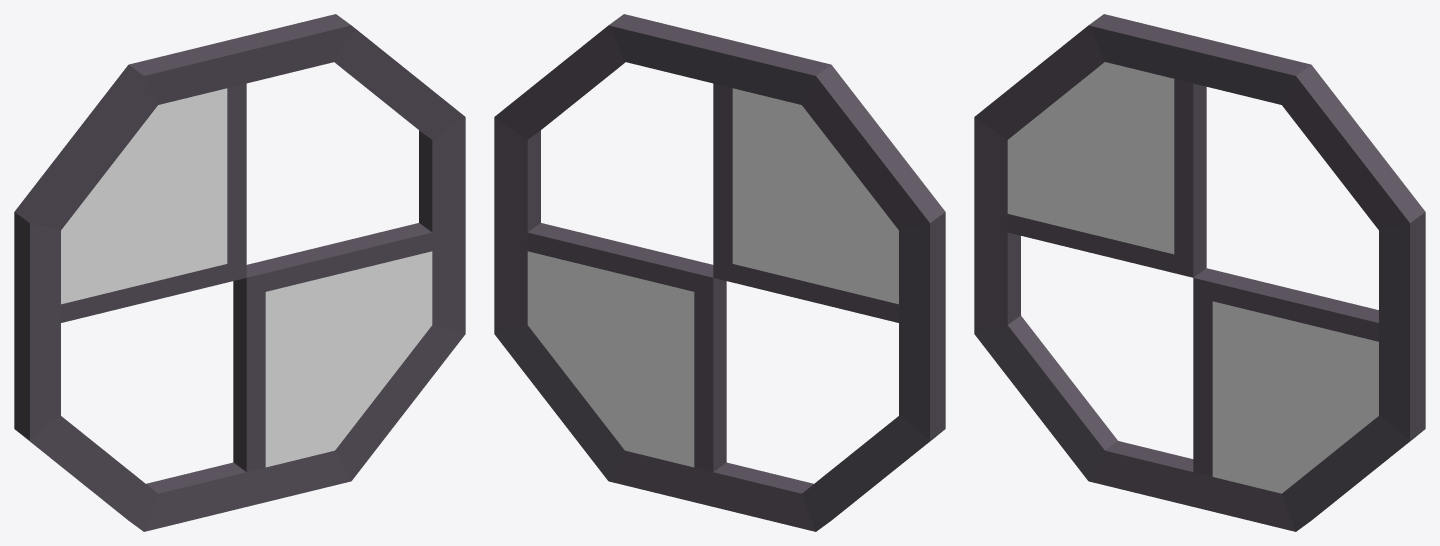
Rendered from Obstacle03.fbx.
3 renders of one model, left to right at view 1: azimuth 30°, elevation 25°; view 2: azimuth 150°, elevation 25°; view 3: azimuth 330°, elevation 25°, orthographic.
Visible parts, largest first — view 1: Obstacle03; view 2: Obstacle03; view 3: Obstacle03.
Boxes of the visible parts, bbox=[...] form: Obstacle03: bbox=[14, 14, 465, 531]; Obstacle03: bbox=[494, 14, 945, 531]; Obstacle03: bbox=[974, 14, 1425, 531].
Size of the model in its own units: 49.27 by 49.27 by 3.05.
